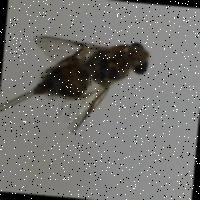Oriental-fruit-fly: (16, 25, 168, 149)
